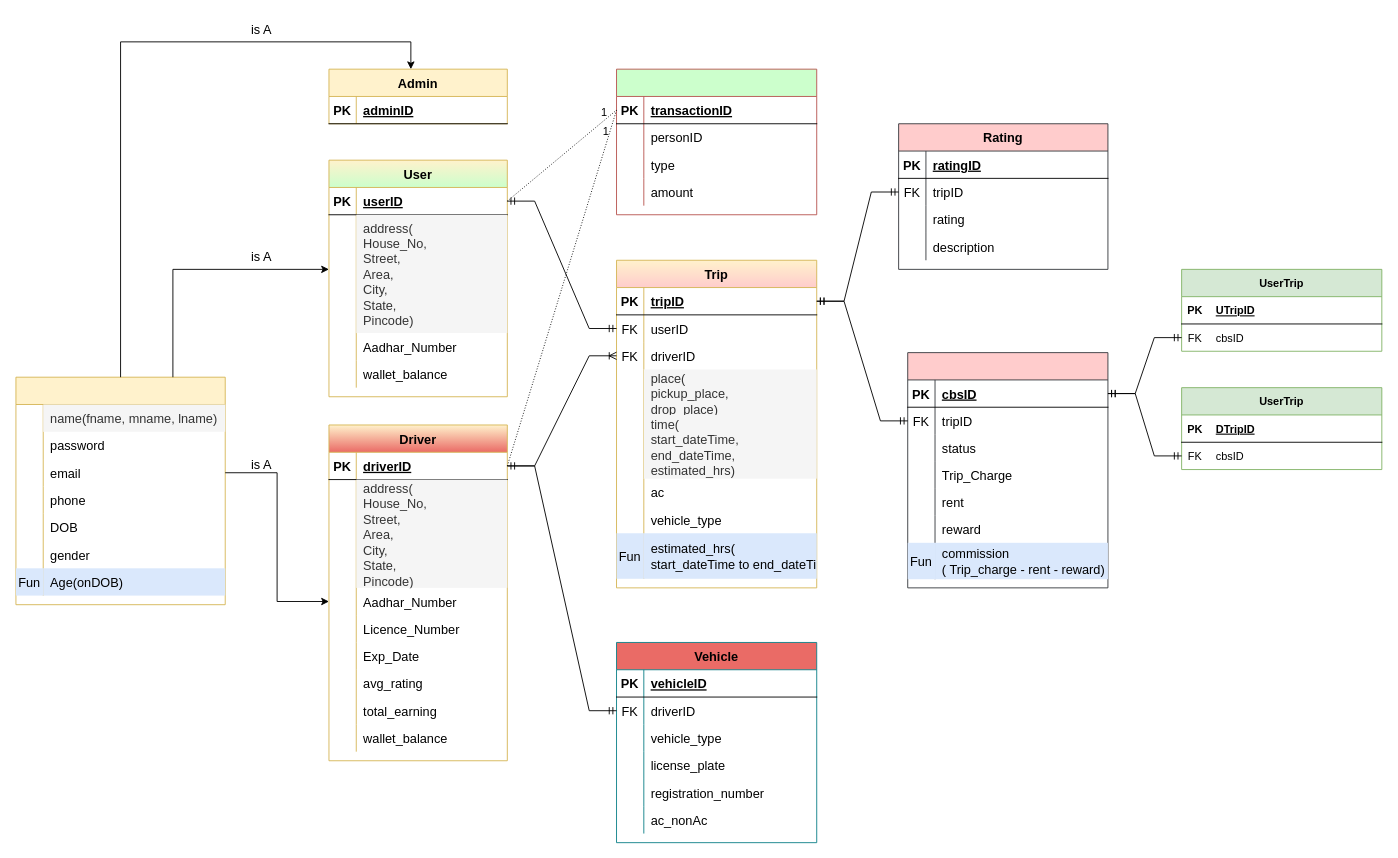
Some shapes in this 1398 by 858 pixel diagram are drawn without their labels. Here are the shapes that lost their labels. From the top down, the box of each, then its label:
(616, 68, 817, 215): CBSWallet
(907, 352, 1108, 588): CBSTrip
(15, 376, 225, 605): Person
